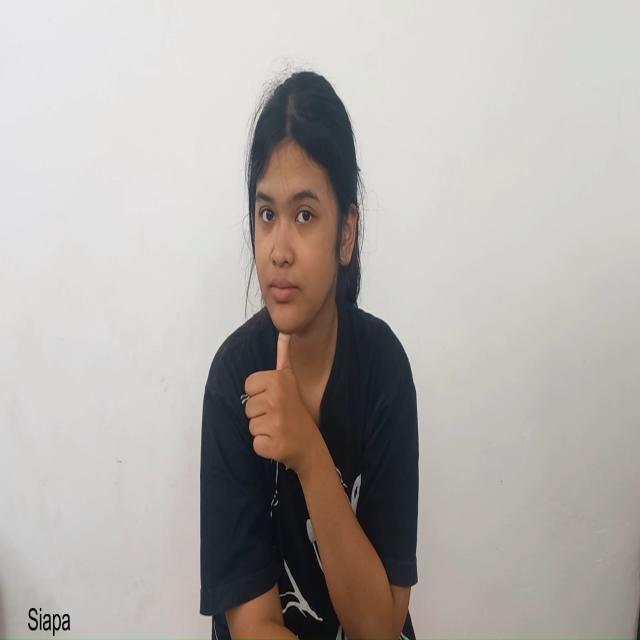Siapa -BISINDO-: (242, 65, 362, 473)
